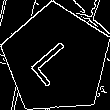L_NE: (28, 31, 85, 88)
